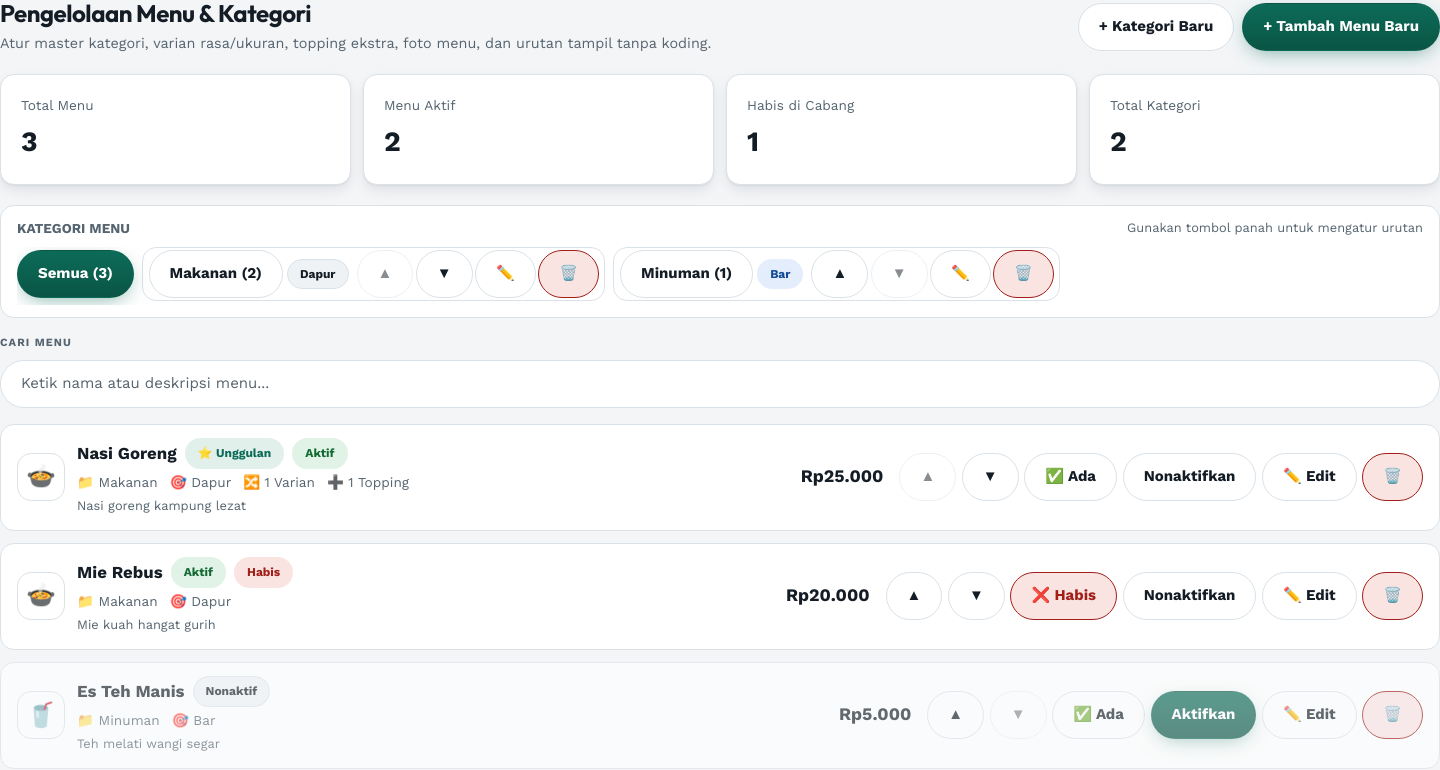
Scenario: Layar Pengaturan Menu & Kategori (T9-05 / PRD M2 & M3) › 6. Mencegah penghapusan kategori yang masih memiliki menu item
// Coba hapus kategori 'Makanan' yang memiliki 2 menu
What coordinates should you click on to do the following:
click the button named "Hapus kategori Makanan"
I would click on:
 (568, 274)
Its box is [538,250,599,298].
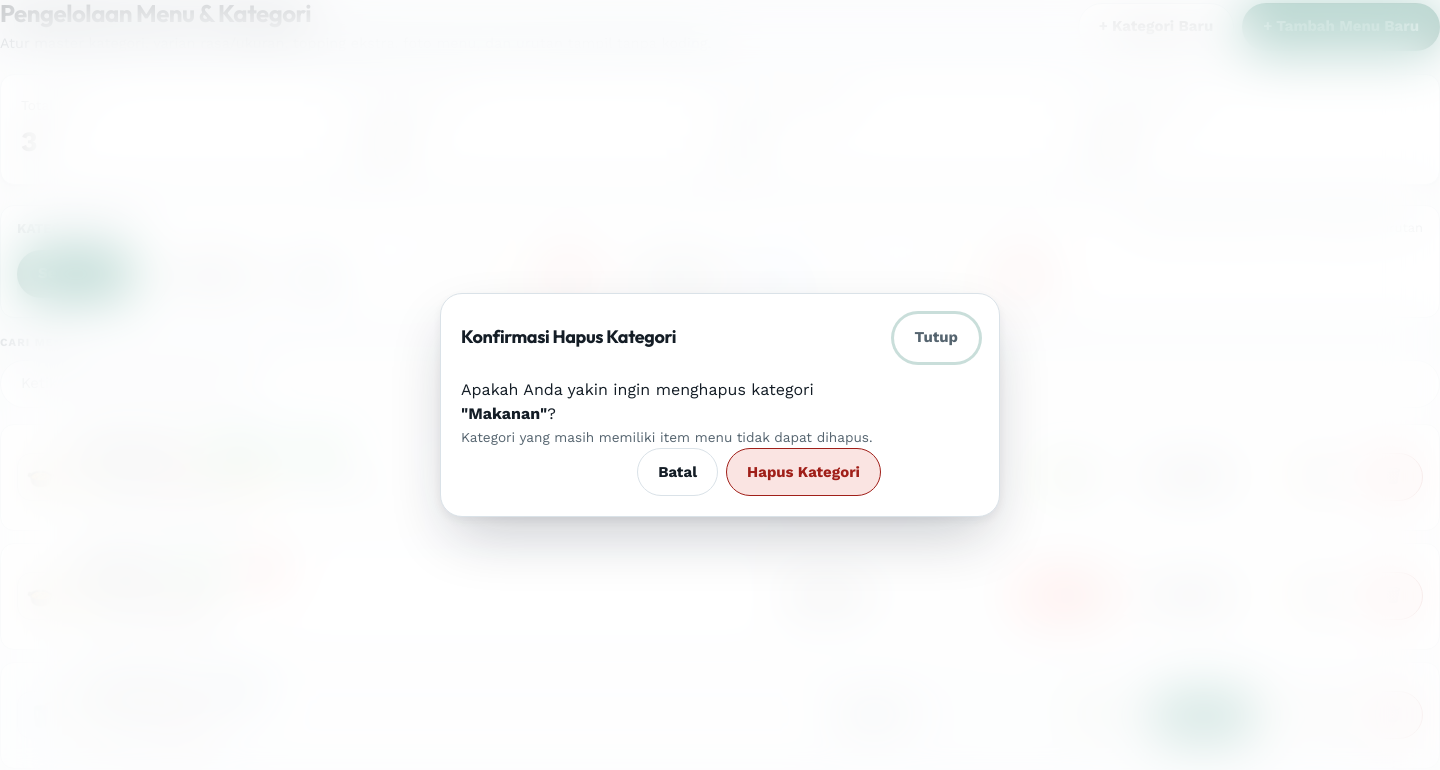
Expected: the heading "Konfirmasi Hapus Kategori" is shown, [461,327,676,348]
What coordinates should you click on to do the following:
click the button with aria-label "Hapus kategori permanen"
I would click on:
 (804, 472)
Its box is [726,448,881,496].
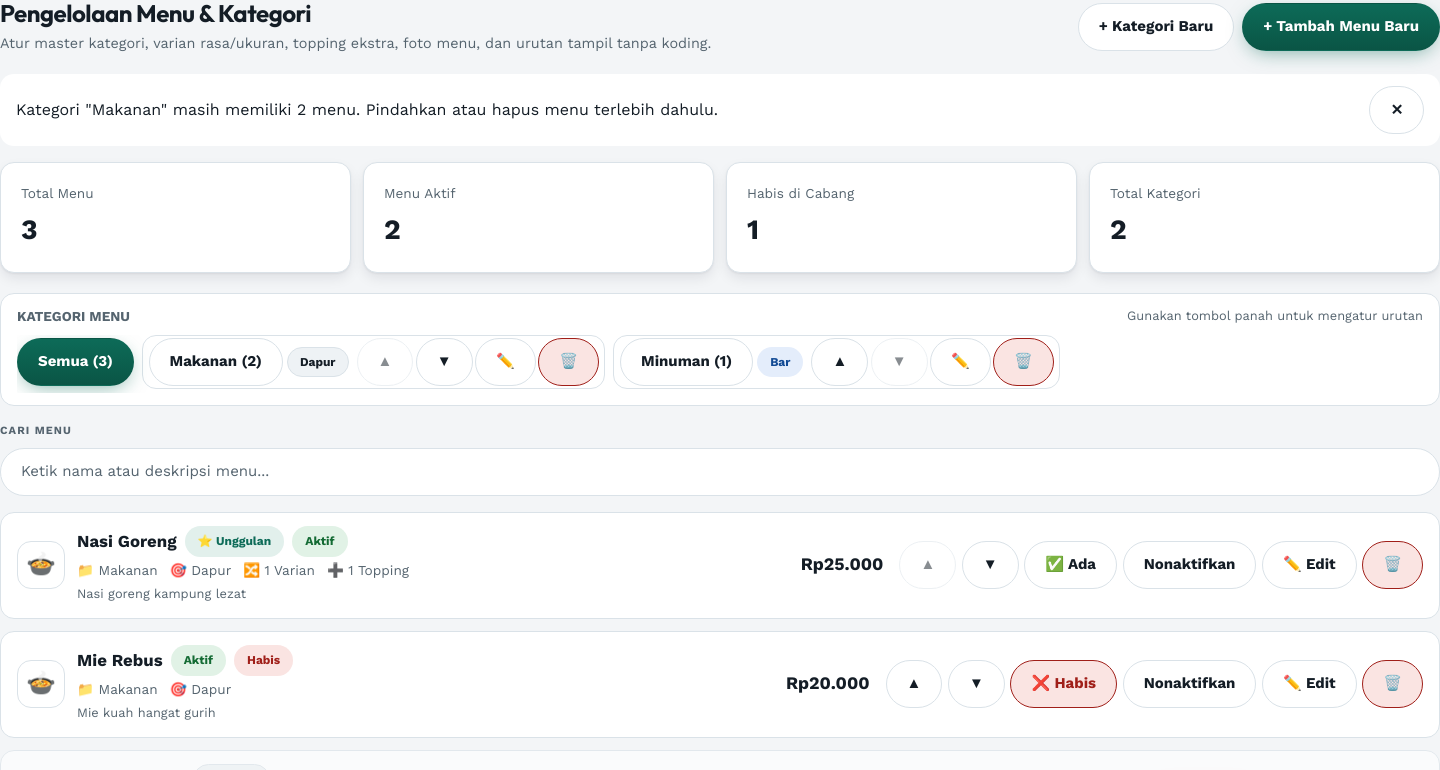
Expected: the text "masih memiliki 2 menu" is shown, [16,100,718,119]
